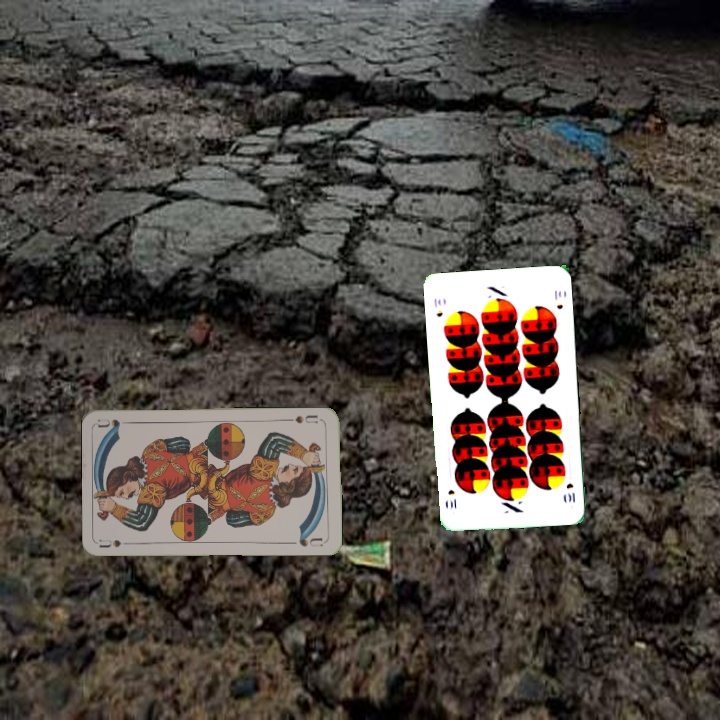S10: (562, 479, 577, 505), (430, 294, 445, 319)
SU: (97, 535, 137, 550), (291, 411, 325, 426)
